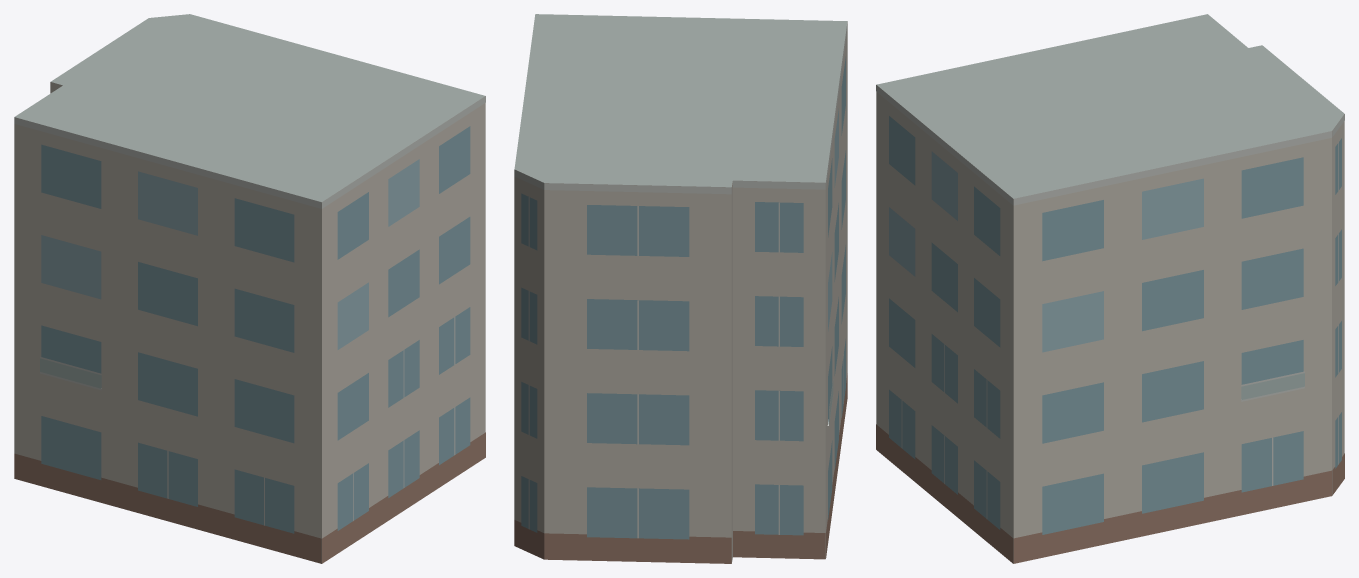
File: survey-upis-32832689.glb
The picture shows the model from 3 angles, left to right: view 1: azimuth 30°, elevation 25°; view 2: azimuth 150°, elevation 25°; view 3: azimuth 270°, elevation 25°; orthographic projection. The views are drawn at different scales.
Visible parts, largest first — view 1: survey-upis-32832689.tmp; view 2: survey-upis-32832689.tmp; view 3: survey-upis-32832689.tmp.
Boxes of the visible parts, bbox=[...] form: survey-upis-32832689.tmp: bbox=[14, 14, 485, 563]; survey-upis-32832689.tmp: bbox=[514, 14, 847, 563]; survey-upis-32832689.tmp: bbox=[876, 14, 1344, 563].
Size of the model in its own units: 14.23 by 13.1 by 15.25.
